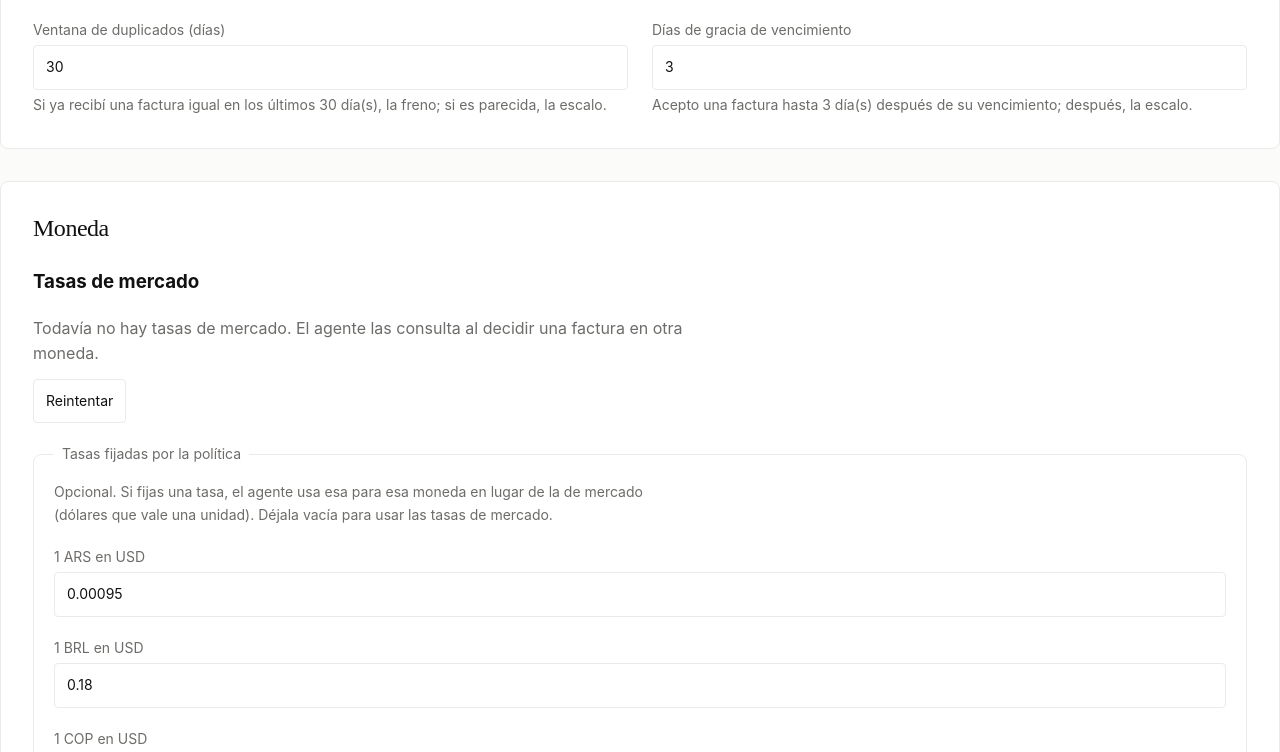
Test: no rates yet: a designed empty message with a «Reintentar» next step that refetches, and no table (AC-91 item 4)
(page scrolled)
Step 1. Click the button "Reintentar" → (80, 401), box [33,379,126,423]
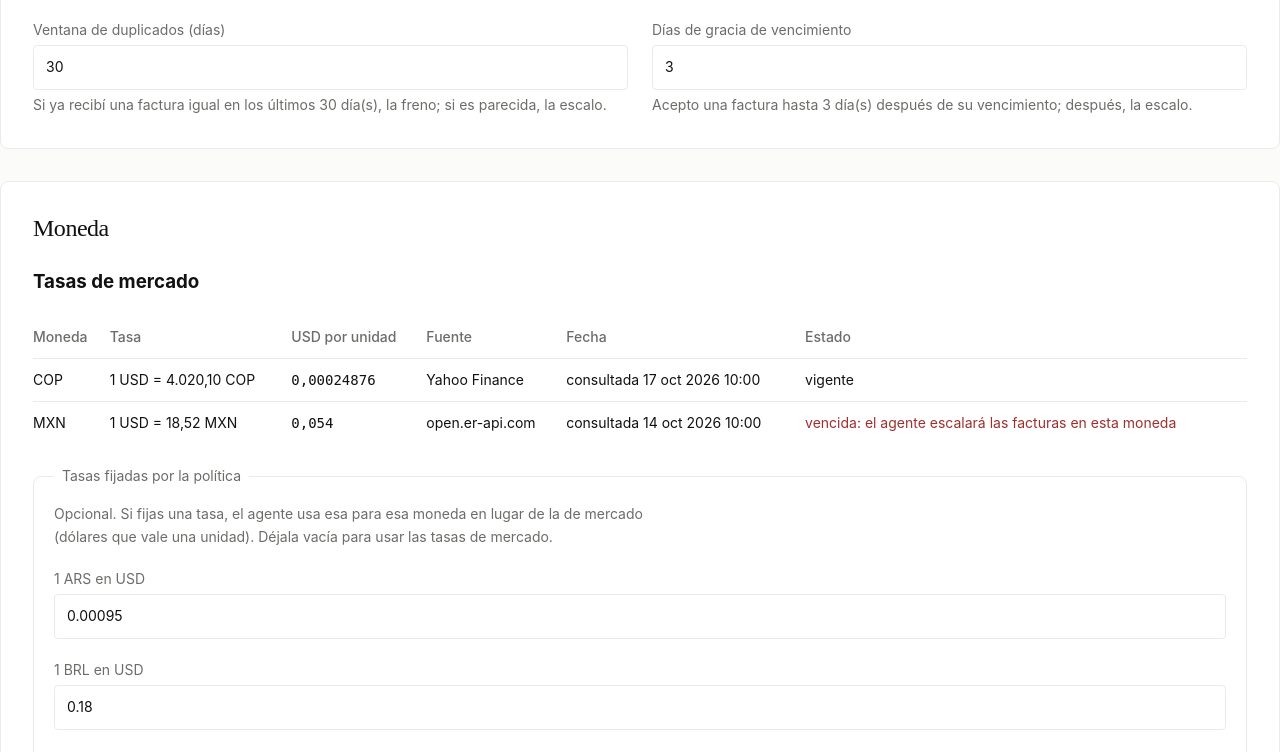
Check: the table named "Tasas de mercado" is shown, box [33,316,1247,445]
